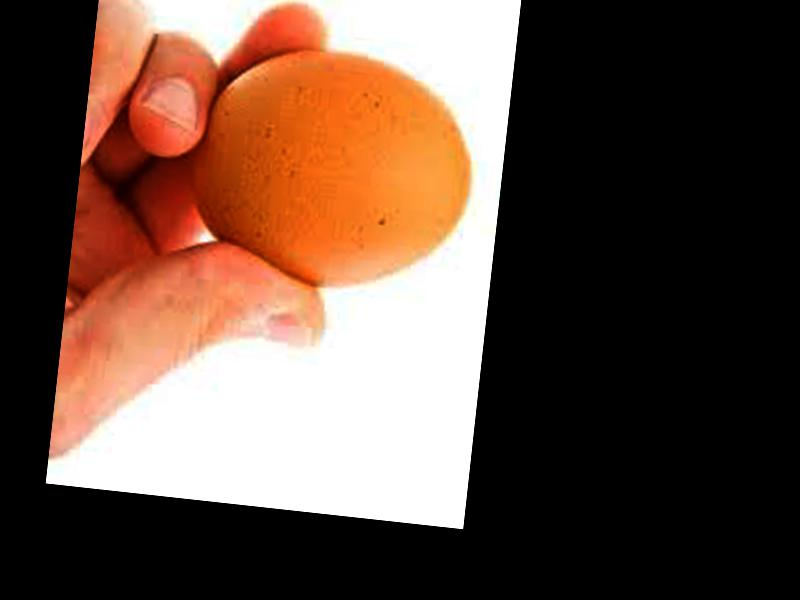Eggs: (186, 37, 484, 302)
